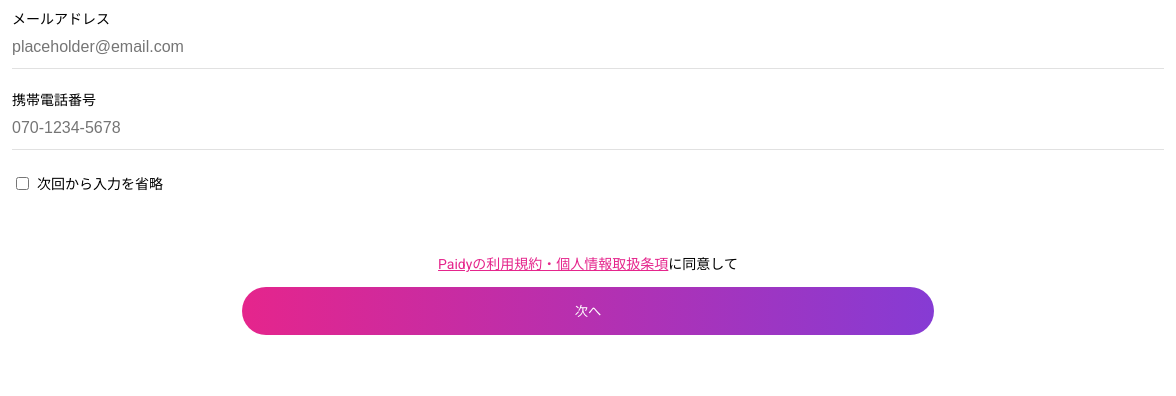
Test: Form › Displays errors after submission with incorrect data
This screenshot has width=1176, height=396.
Type "incorrect@email" into the field labelled "メールアドレス" at [588, 48], box [12,26,1164,69]
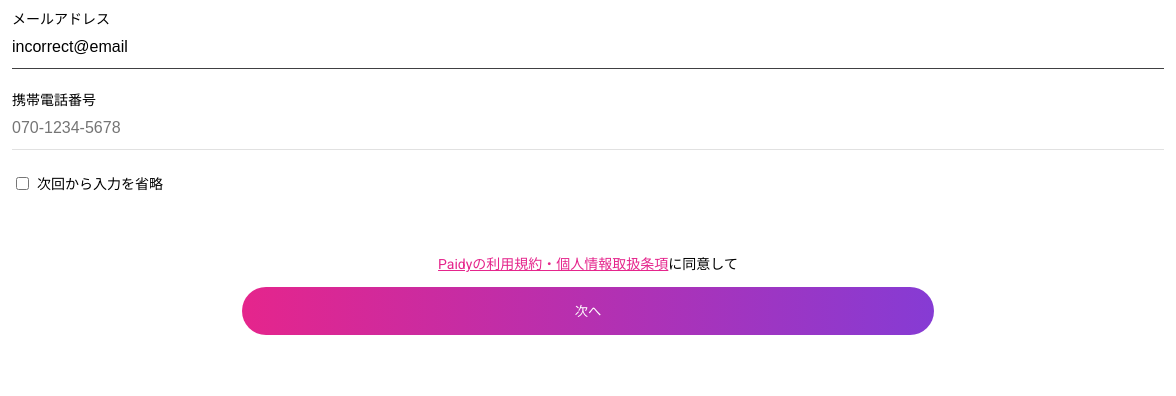
Click the button with test id "credentials-submit-button" at [588, 311], box [242,287,934,335]
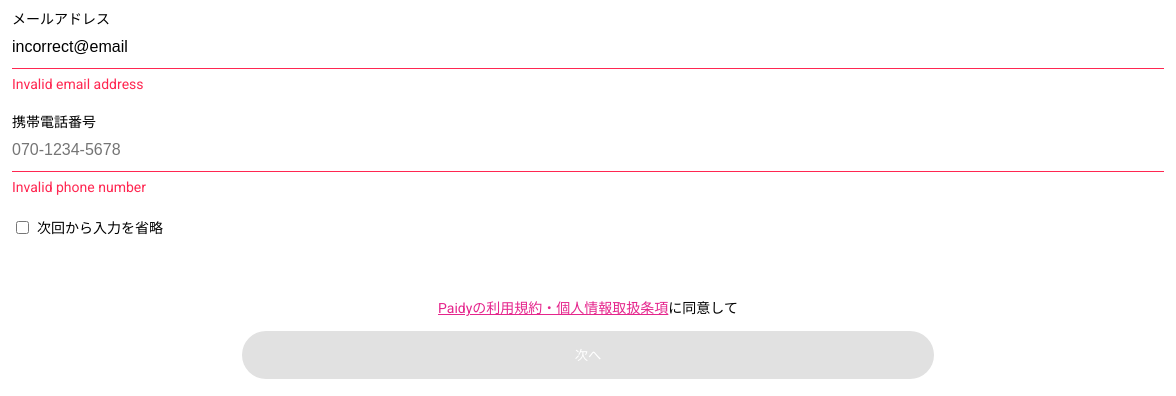
Result: the text "Invalid email address" is shown at [12,76,144,92]
Result: the text "Invalid phone number" is shown at [12,179,146,195]
